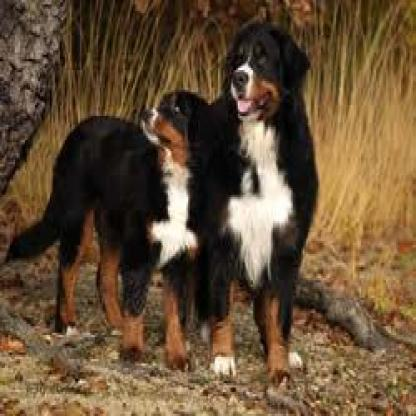EntleBucher: (3, 88, 213, 370), (210, 17, 321, 379)
